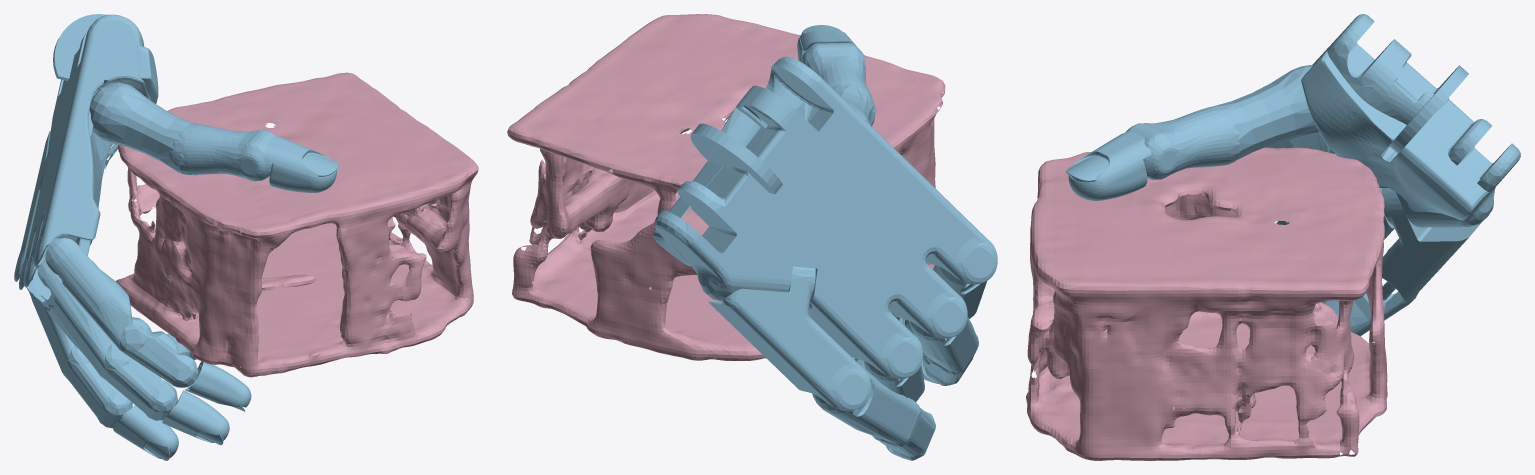
3 renders of one model, left to right at view 1: azimuth 30°, elevation 25°; view 2: azimuth 150°, elevation 25°; view 3: azimuth 270°, elevation 25°, orthographic. The views are drawn at different scales.
Parts seen in each view (by area): view 1: world, hand_isaac_q; view 2: hand_isaac_q, world; view 3: world, hand_isaac_q.
Boxes of the visible parts, <box> form: world: <box>115,72,478,377</box>; hand_isaac_q: <box>14,14,339,460</box>; hand_isaac_q: <box>653,25,997,460</box>; world: <box>507,14,945,360</box>; world: <box>1026,147,1387,460</box>; hand_isaac_q: <box>1066,14,1520,336</box>.
Bounding box in the file's own units: 0.1809 × 0.1788 × 0.18.
